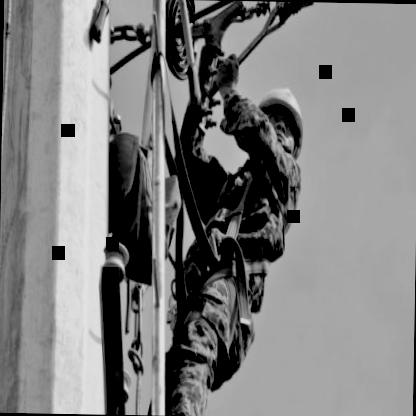helmet: (252, 78, 310, 166)
